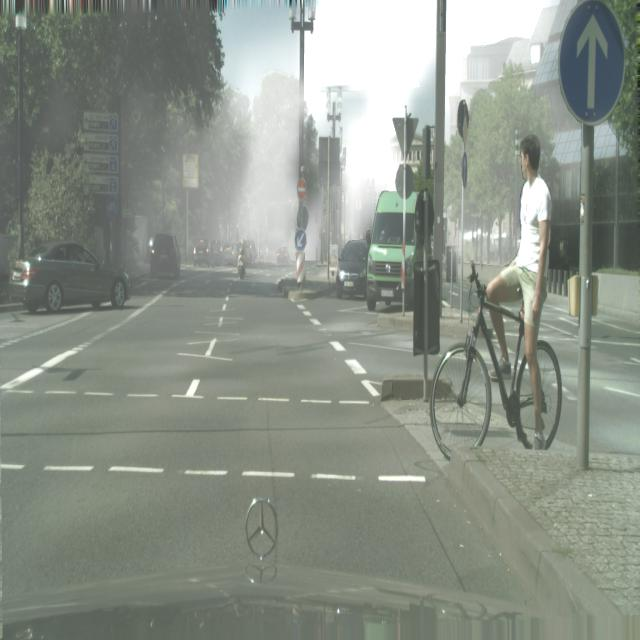car: (430, 126, 561, 460)
rider: (366, 188, 417, 311)
truck: (8, 241, 131, 314), (335, 239, 369, 299), (149, 232, 181, 279), (193, 238, 212, 268), (211, 239, 224, 266), (223, 242, 238, 265), (276, 246, 291, 265)
